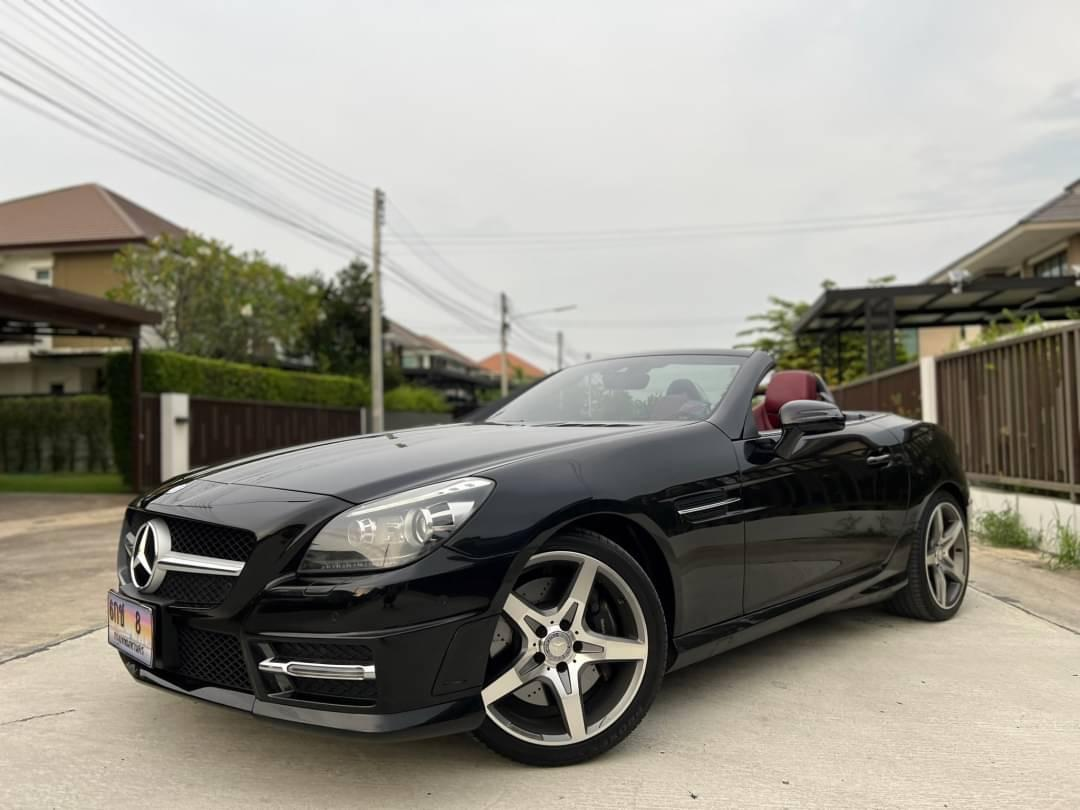license-plate: (83, 589, 179, 679)
